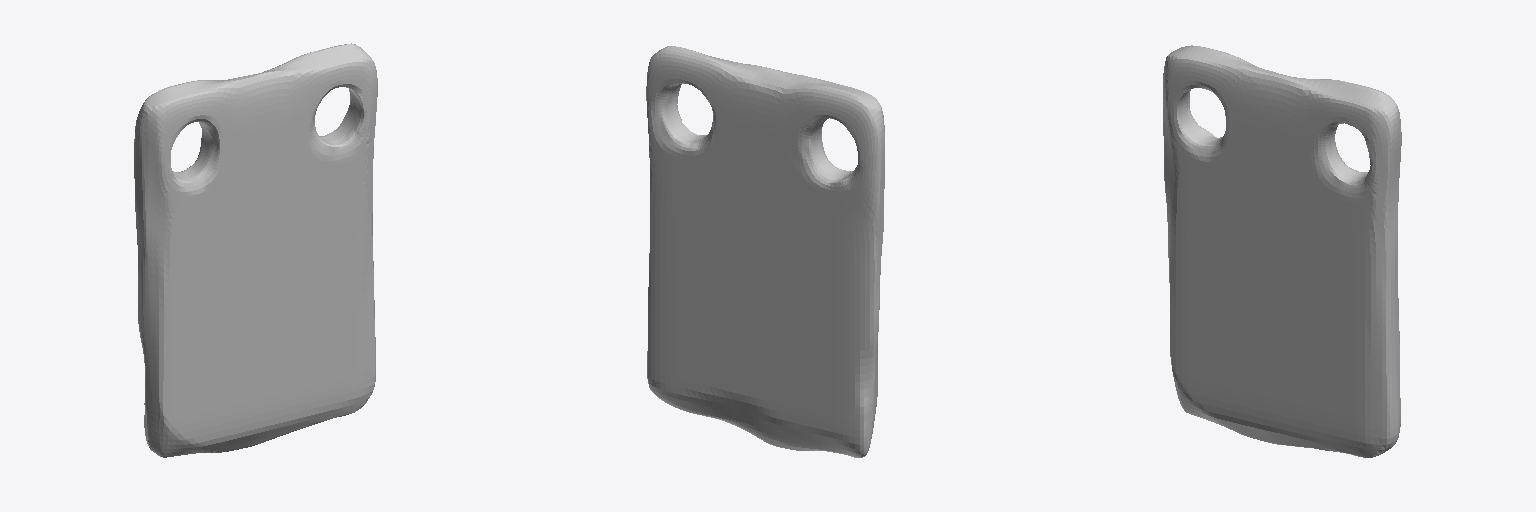
The model's file is OpponentScore_QUADPM3D_Cylinder3D_4.OBJ.
3 renders of one model, left to right at view 1: azimuth 30°, elevation 25°; view 2: azimuth 150°, elevation 25°; view 3: azimuth 330°, elevation 25°, orthographic.
Visible parts, largest first — view 1: ZBrushPolyMesh3D; view 2: ZBrushPolyMesh3D; view 3: ZBrushPolyMesh3D.
Boxes of the visible parts, box(x1,y1,x2,y2) form: ZBrushPolyMesh3D: box(134, 43, 377, 457); ZBrushPolyMesh3D: box(646, 46, 884, 457); ZBrushPolyMesh3D: box(1163, 45, 1401, 457).
Bounding box in the file's own units: 0.4242 × 0.6518 × 0.0575.